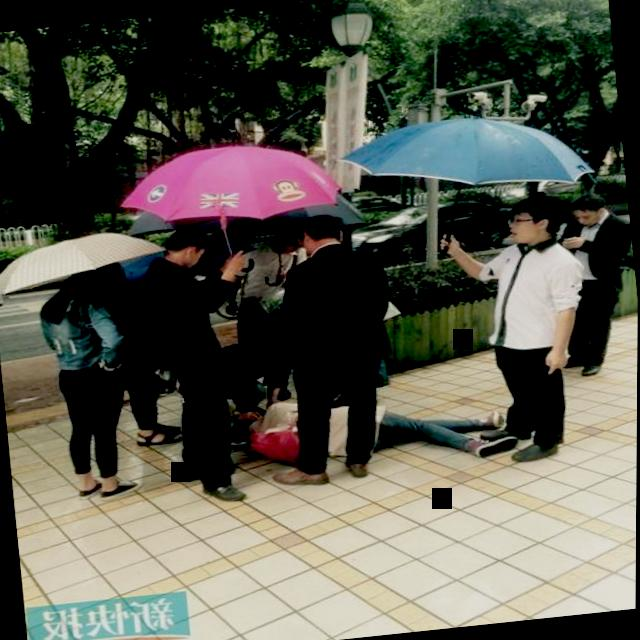Fall-Detected: (223, 359, 519, 492)
